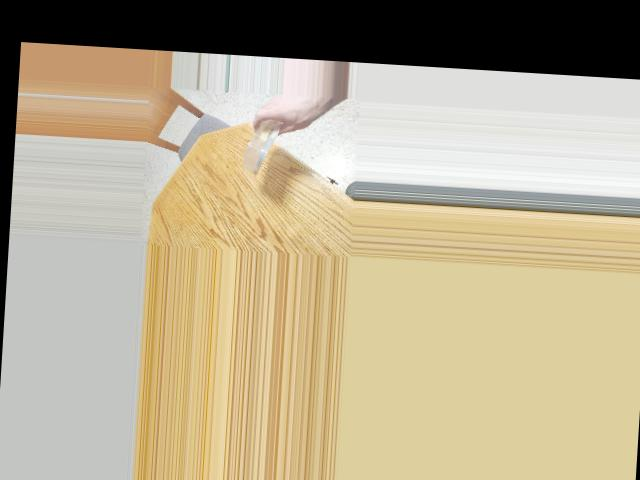cheese: (241, 110, 281, 178)
